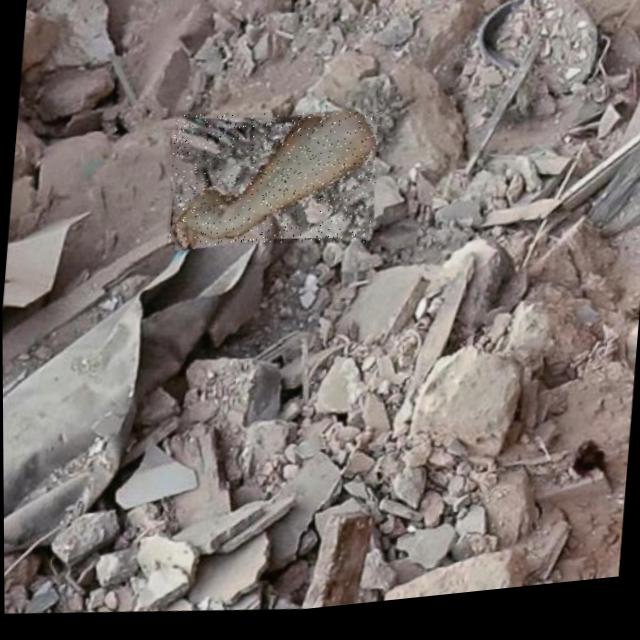Person in Rubble: (164, 100, 382, 266)
